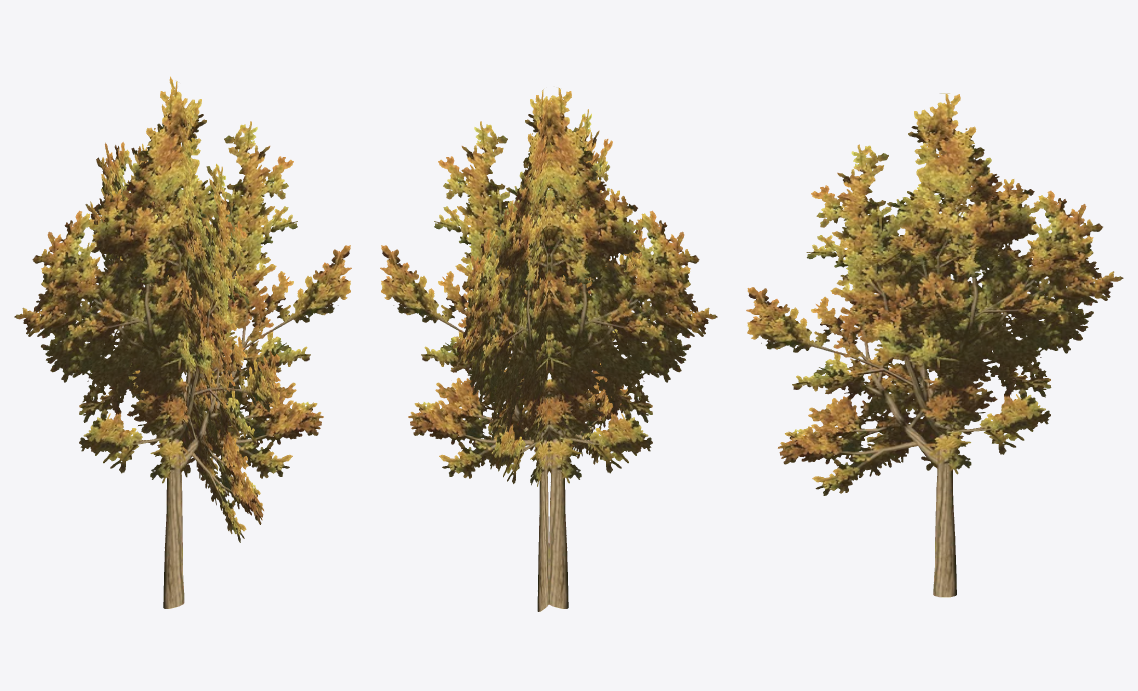
The picture shows the model from 3 angles, left to right: view 1: azimuth 30°, elevation 25°; view 2: azimuth 150°, elevation 25°; view 3: azimuth 270°, elevation 25°; orthographic projection. The views are drawn at different scales.
Visible parts, largest first — view 1: billboard; view 2: billboard; view 3: billboard.
Part boxes in pixels (bbox=[...]): billboard: bbox=[14, 76, 351, 608]; billboard: bbox=[380, 87, 717, 611]; billboard: bbox=[746, 93, 1123, 597].
Size of the model in its own units: 48.71 by 71.69 by 48.71.
Materials: 1 (1 with a texture image).
